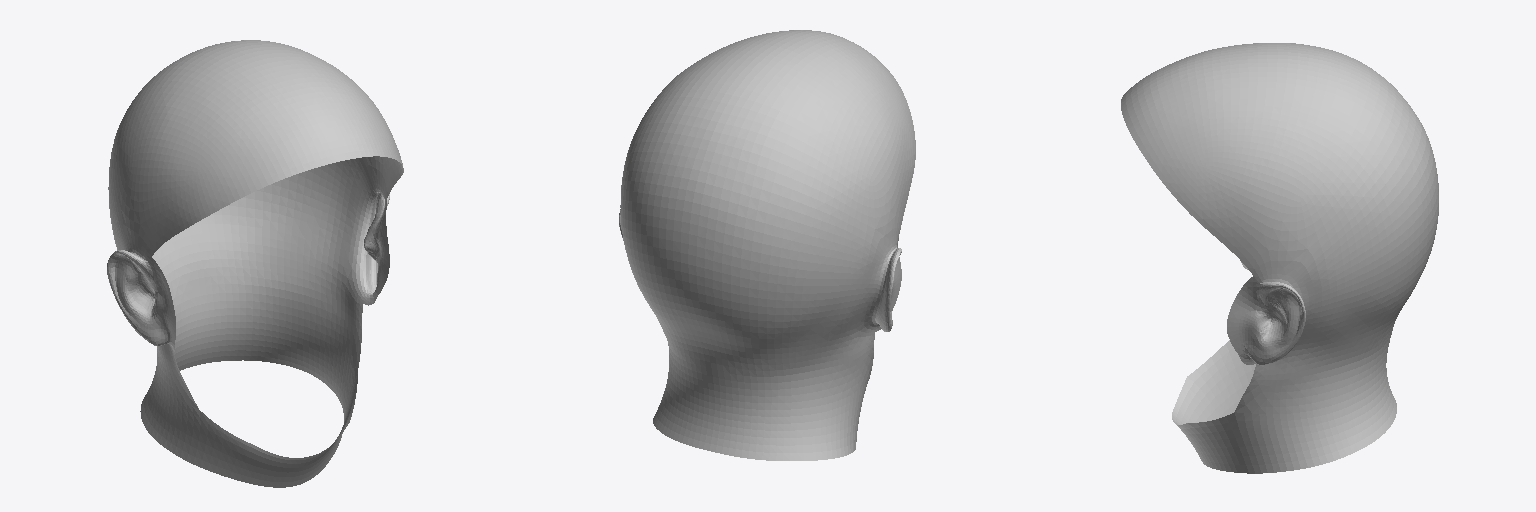
3 views of the same model, side by side, from view 1: azimuth 30°, elevation 25°; view 2: azimuth 150°, elevation 25°; view 3: azimuth 270°, elevation 25° (orthographic).
Visible parts, largest first — view 1: FaceBuilderHead_FaceBuilderHead_mesh; view 2: FaceBuilderHead_FaceBuilderHead_mesh; view 3: FaceBuilderHead_FaceBuilderHead_mesh.
Boxes of the visible parts, x1,y1,x2,y2 form: FaceBuilderHead_FaceBuilderHead_mesh: [107, 40, 403, 487]; FaceBuilderHead_FaceBuilderHead_mesh: [619, 30, 915, 460]; FaceBuilderHead_FaceBuilderHead_mesh: [1121, 43, 1438, 473].
Bounding box in the file's own units: 1.8 × 2.51 × 1.81.